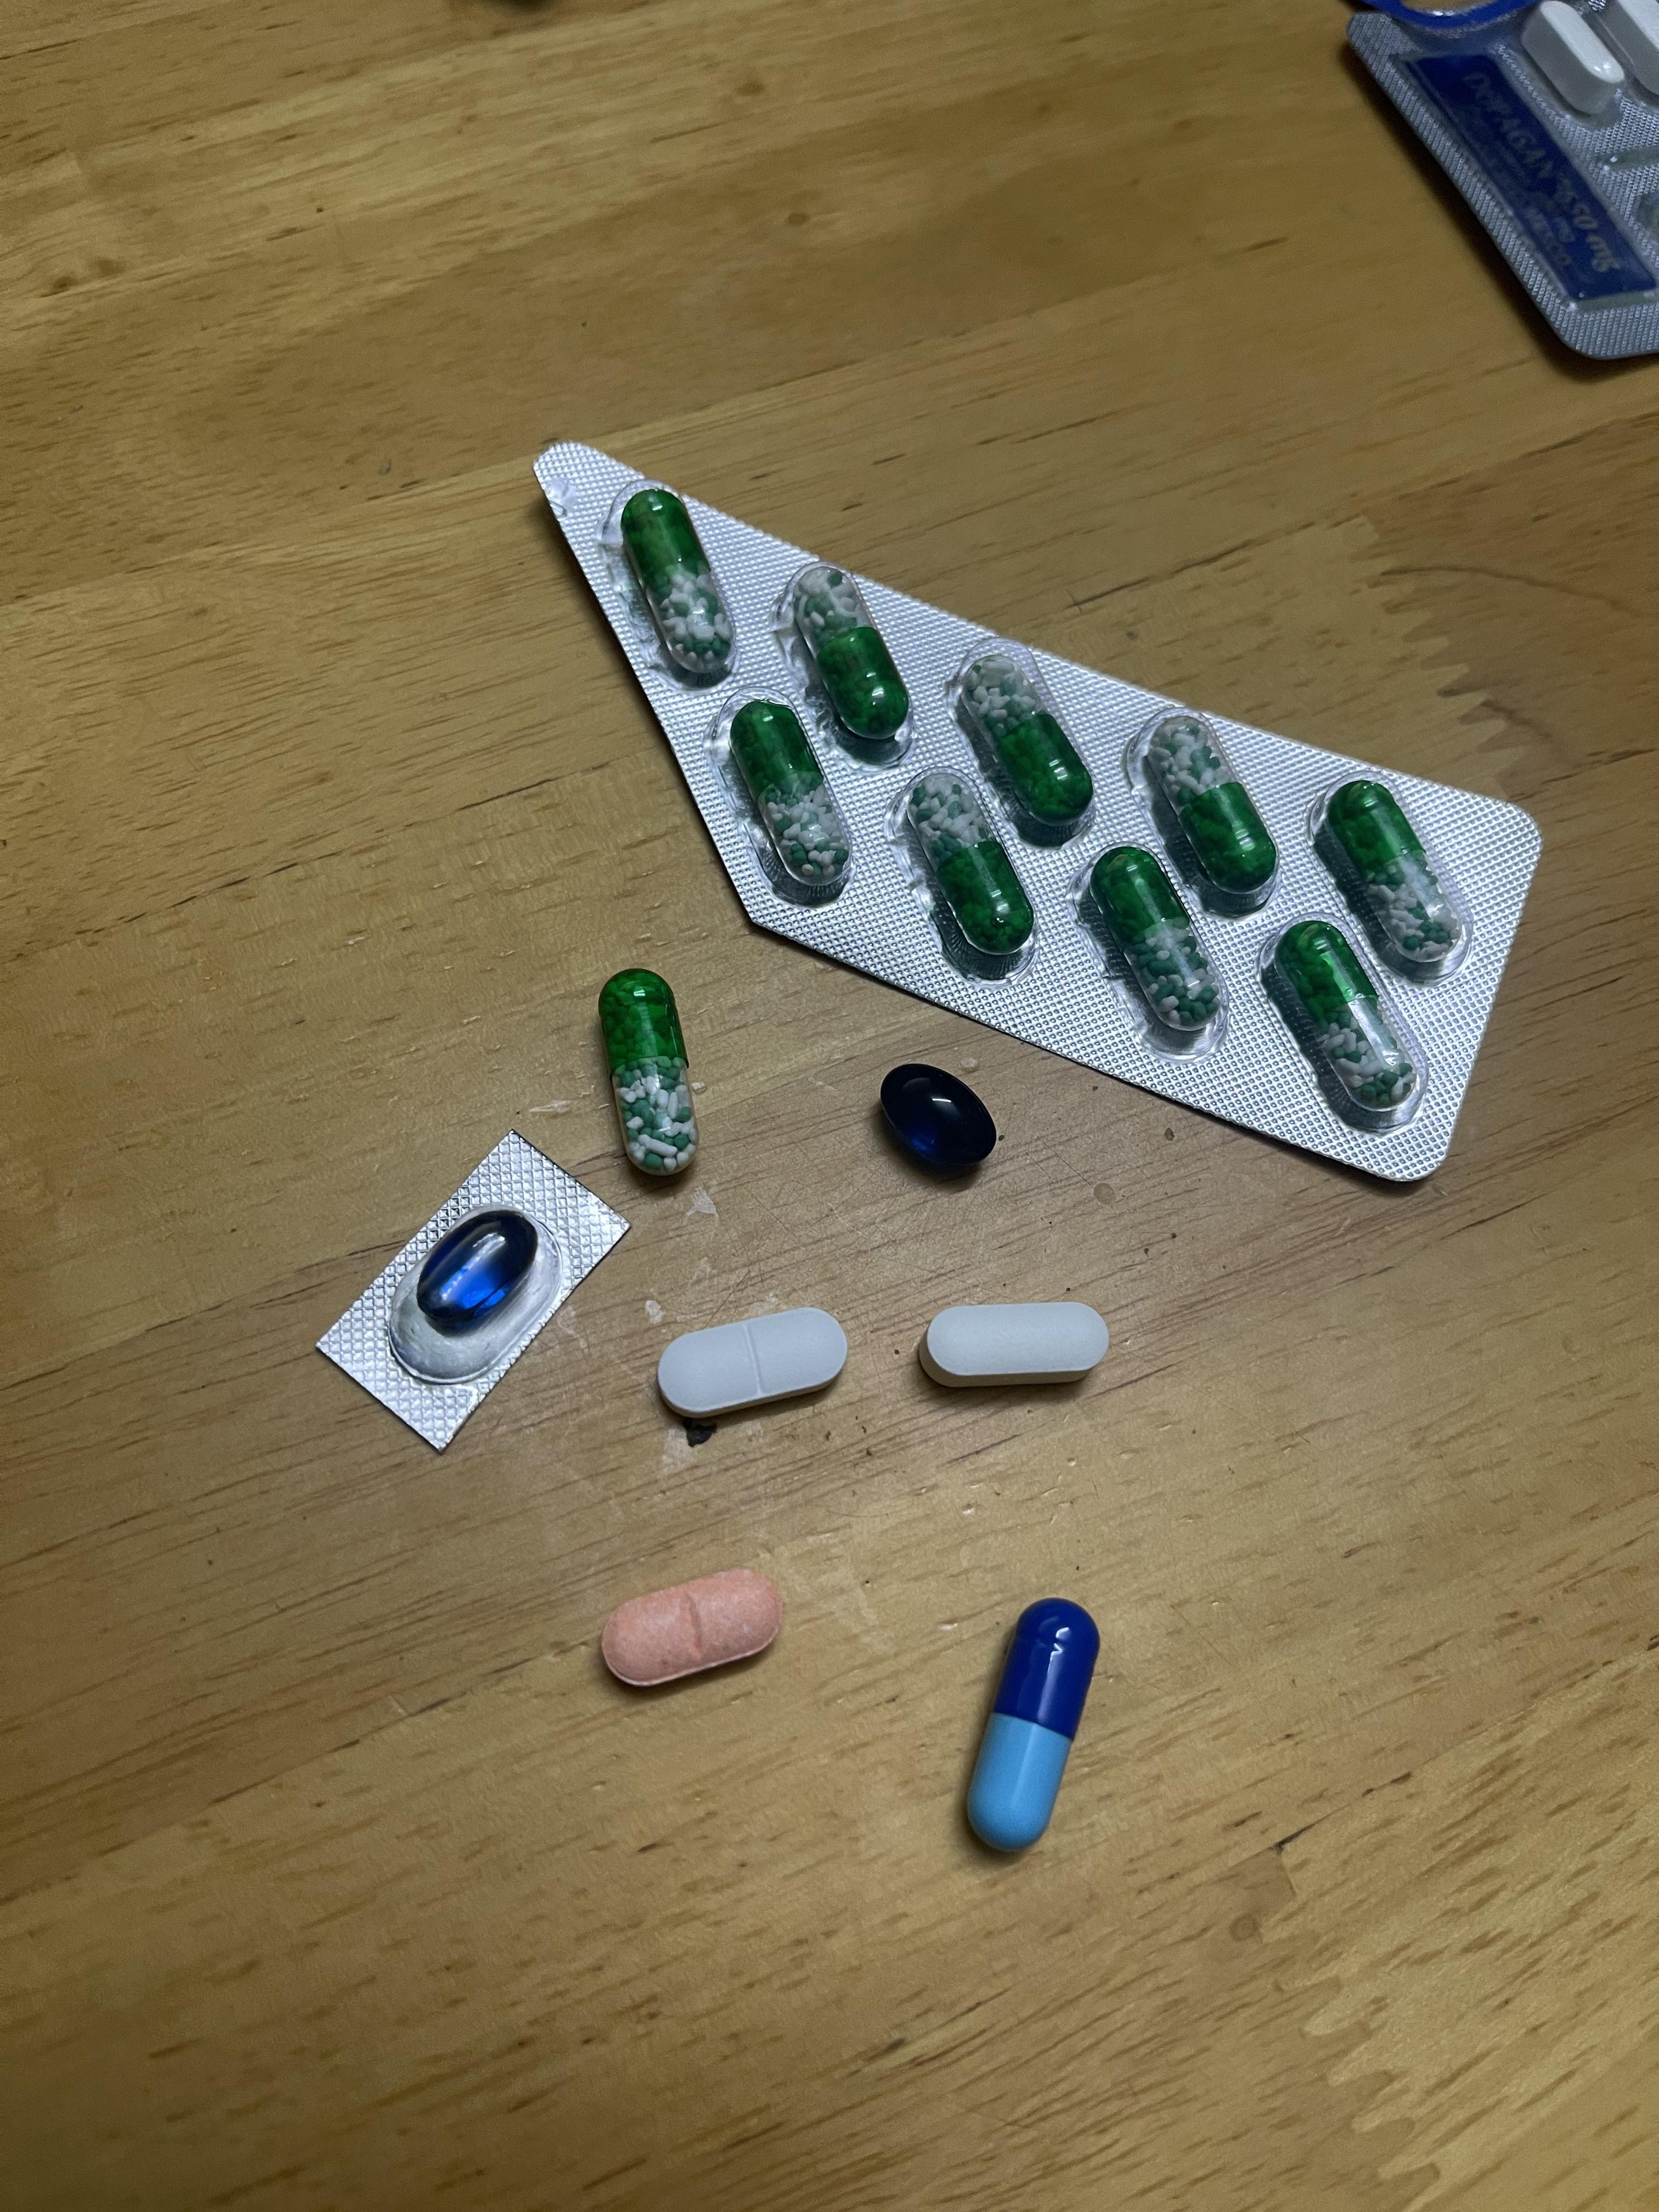Lincomyxin_500mg: (416, 1211, 535, 1327), (877, 1064, 999, 1177)
Loratadine_10mg: (601, 1569, 784, 1688)
Paracetamol_350mg: (657, 1305, 850, 1423)
Paracetamol_500mg: (925, 1299, 1107, 1385)
Paracetamol_650mg: (1265, 921, 1419, 1129), (1138, 709, 1281, 909), (899, 768, 1039, 965), (1319, 782, 1459, 965), (725, 698, 849, 902), (1087, 848, 1215, 1042), (957, 655, 1091, 824), (617, 489, 730, 681), (791, 566, 908, 742), (605, 972, 695, 1176)
pill: (971, 1602, 1093, 1846)
